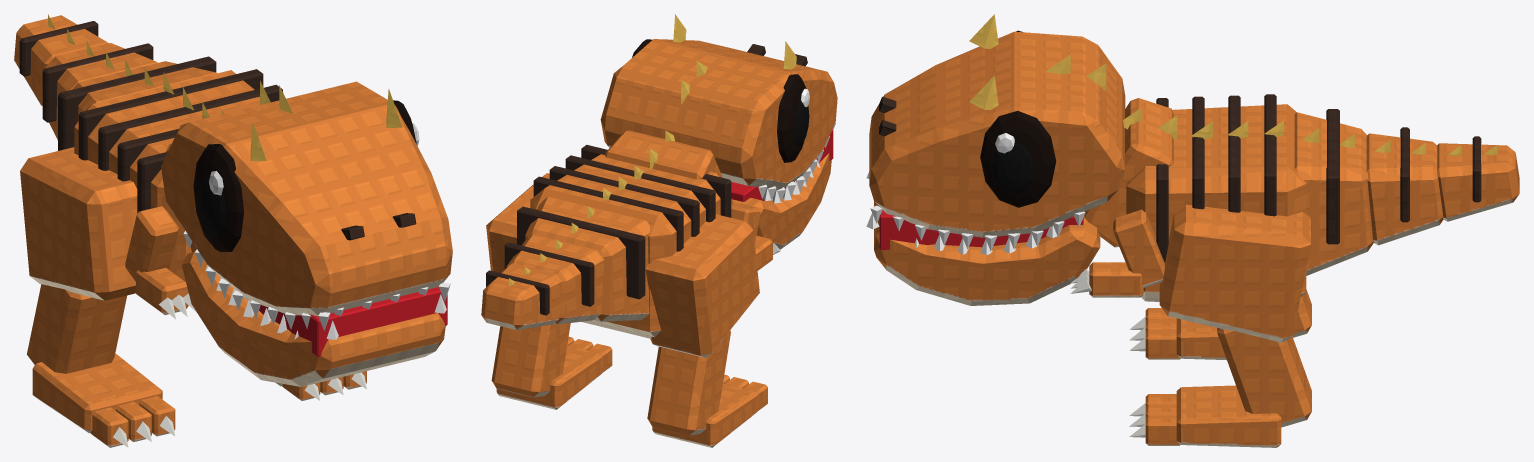
The model's file is bebe_15_Allosaurus.glb.
3 views of the same model, side by side, from view 1: azimuth 30°, elevation 25°; view 2: azimuth 150°, elevation 25°; view 3: azimuth 270°, elevation 25° (orthographic). The views are drawn at different scales.
Visible parts, largest first — view 1: bebe_15_Allosaurus; view 2: bebe_15_Allosaurus; view 3: bebe_15_Allosaurus.
Part boxes in pixels (left/top/right/bottom): bebe_15_Allosaurus: left=14, top=14, right=452, bottom=447; bebe_15_Allosaurus: left=481, top=14, right=837, bottom=447; bebe_15_Allosaurus: left=866, top=14, right=1519, bottom=447.
Bounding box in the file's own units: 2.29 × 3.03 × 5.21.
Materials: 1 (1 with a texture image).
